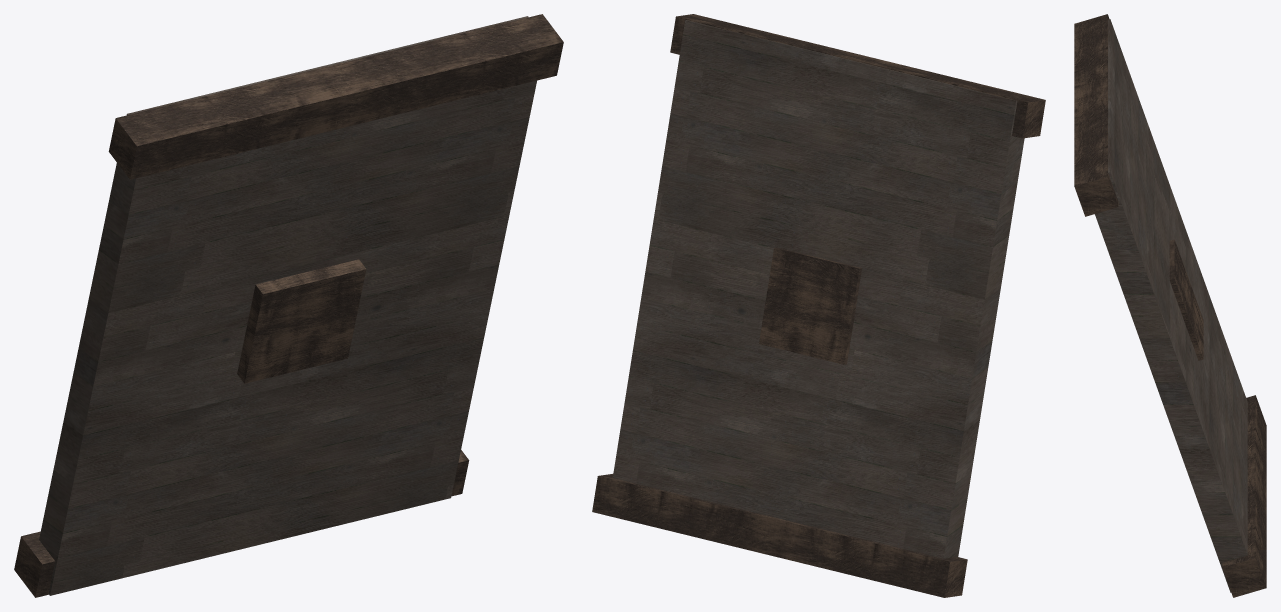
The model's file is prop_training_shield.glb.
3 views of the same model, side by side, from view 1: azimuth 30°, elevation 25°; view 2: azimuth 150°, elevation 25°; view 3: azimuth 270°, elevation 25° (orthographic). The views are drawn at different scales.
Parts seen in each view (by area): view 1: prop_training_shield; view 2: prop_training_shield; view 3: prop_training_shield.
Boxes of the visible parts, left/top/right/bottom form: prop_training_shield: left=14, top=14, right=563, bottom=597; prop_training_shield: left=592, top=14, right=1045, bottom=597; prop_training_shield: left=1074, top=14, right=1266, bottom=597.
Bounding box in the file's own units: 0.66 × 0.7956 × 0.329.
2 materials, 2 textured.
